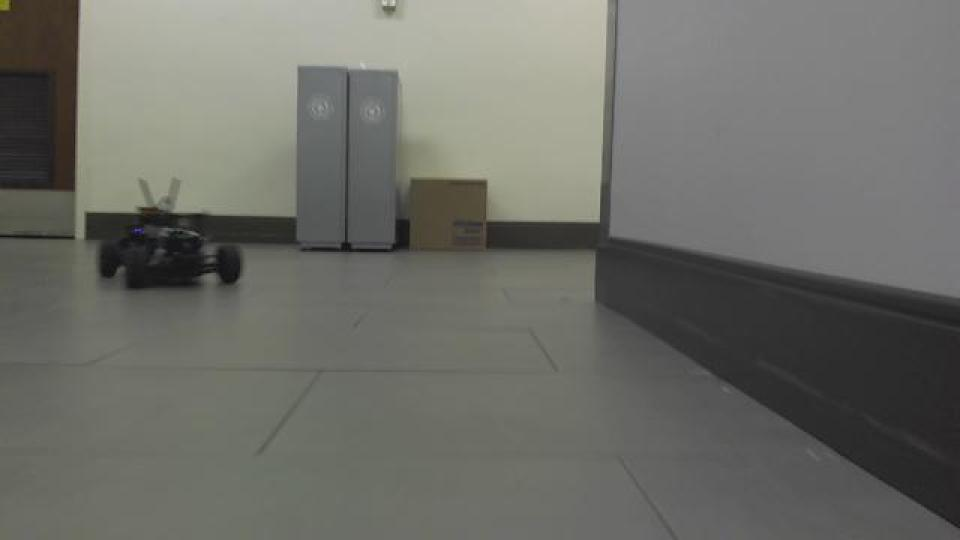car: (95, 174, 244, 292)
